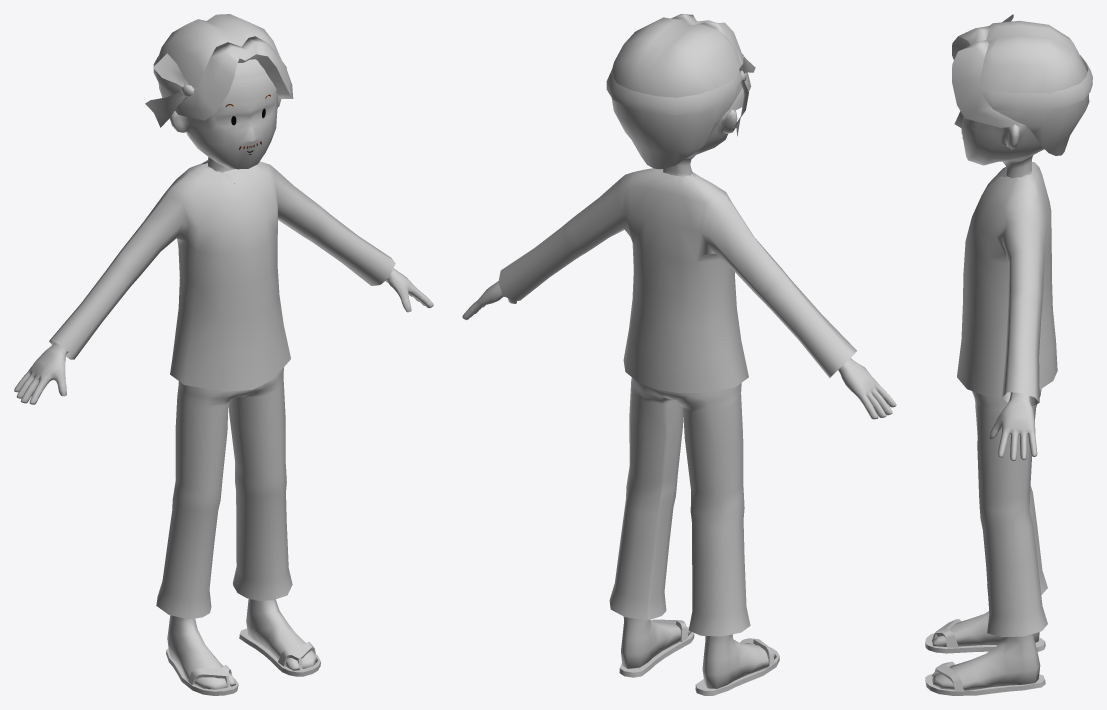
Rendered from AM_FARRMER_GR.fbx.
3 views of the same model, side by side, from view 1: azimuth 30°, elevation 25°; view 2: azimuth 150°, elevation 25°; view 3: azimuth 270°, elevation 25° (orthographic). The views are drawn at different scales.
Visible parts, largest first — view 1: polySurface5; view 2: polySurface5; view 3: polySurface5.
Part boxes in pixels (x1=…): polySurface5: x1=14, y1=14, x2=433, y2=695; polySurface5: x1=462, y1=14, x2=896, y2=695; polySurface5: x1=925, y1=14, x2=1092, y2=695.
Bounding box in the file's own units: 125 × 183 × 43.85.
